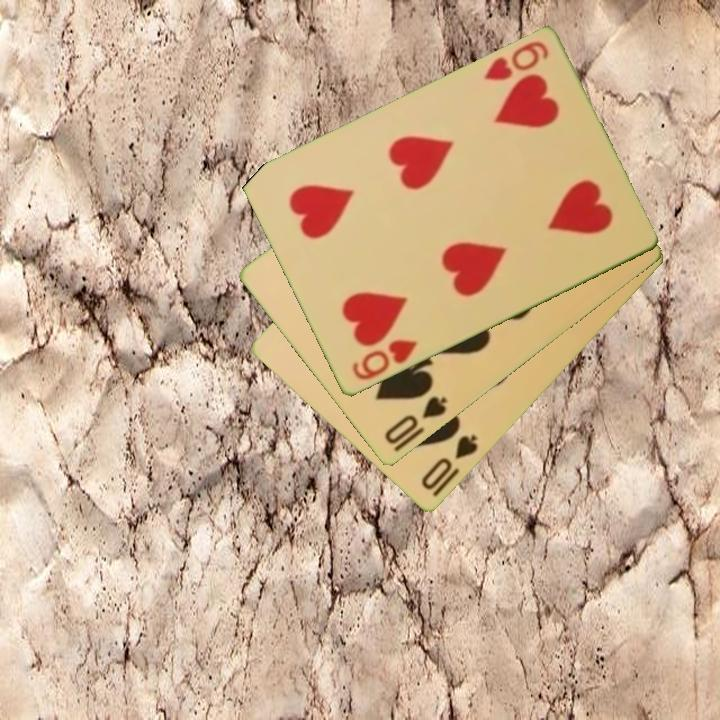10s: (418, 431, 481, 494), (381, 393, 450, 448)
6h: (348, 336, 421, 384), (480, 38, 552, 85)
